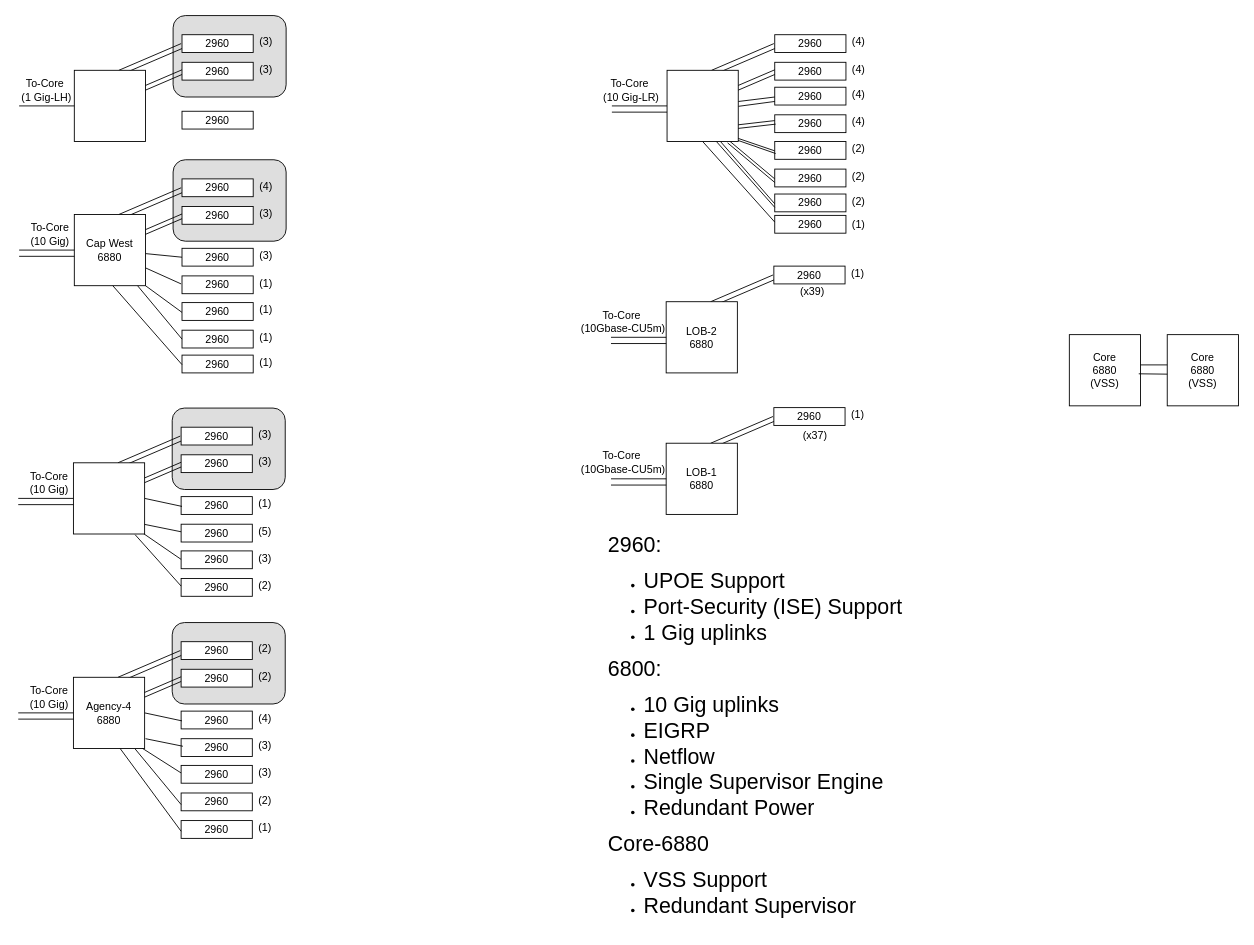
Image size: 1254x945. Some labels were removed from this diagram. The box of each missing label's shape, as (x1, y1, x2, y2) in pixels:
A.E.S. 6880: (666, 69, 738, 142)
C. Woods 6880: (73, 69, 146, 142)
Cap East 6880: (73, 462, 145, 534)
